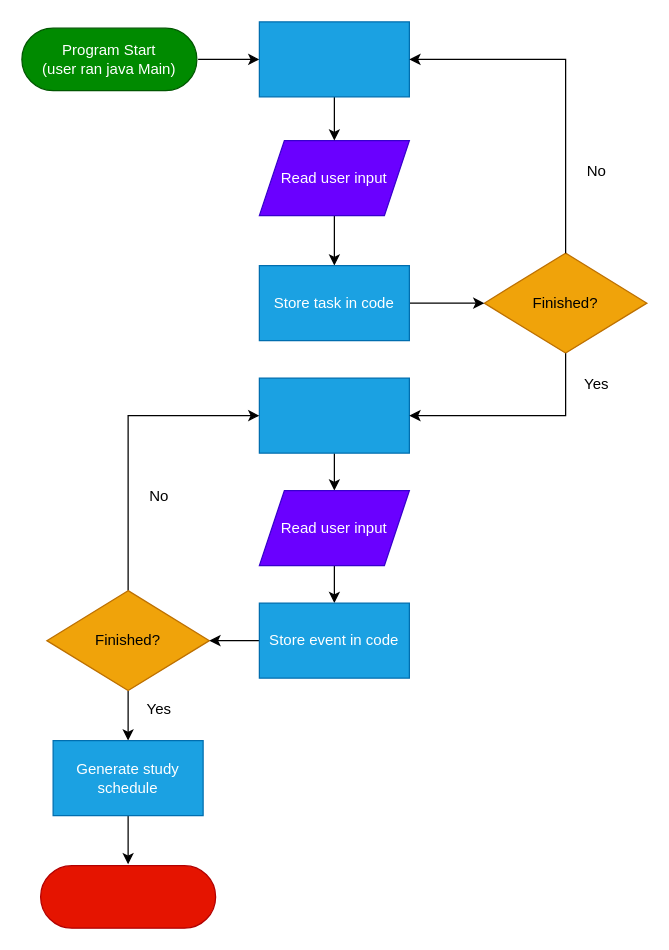
This 669x950 diagram has some shape labels left out. Here are the shapes that lost their labels. From the top down, the centre of each, then its label:
point (333, 59): Ask for user to input events
point (333, 415): Ask for user to input tasks
point (127, 896): End
